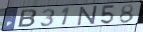1: (59, 7, 72, 27)
3: (39, 7, 56, 28)
5: (99, 4, 116, 25)
8: (118, 3, 137, 24)
B: (17, 9, 38, 29)
N: (77, 5, 99, 27)
